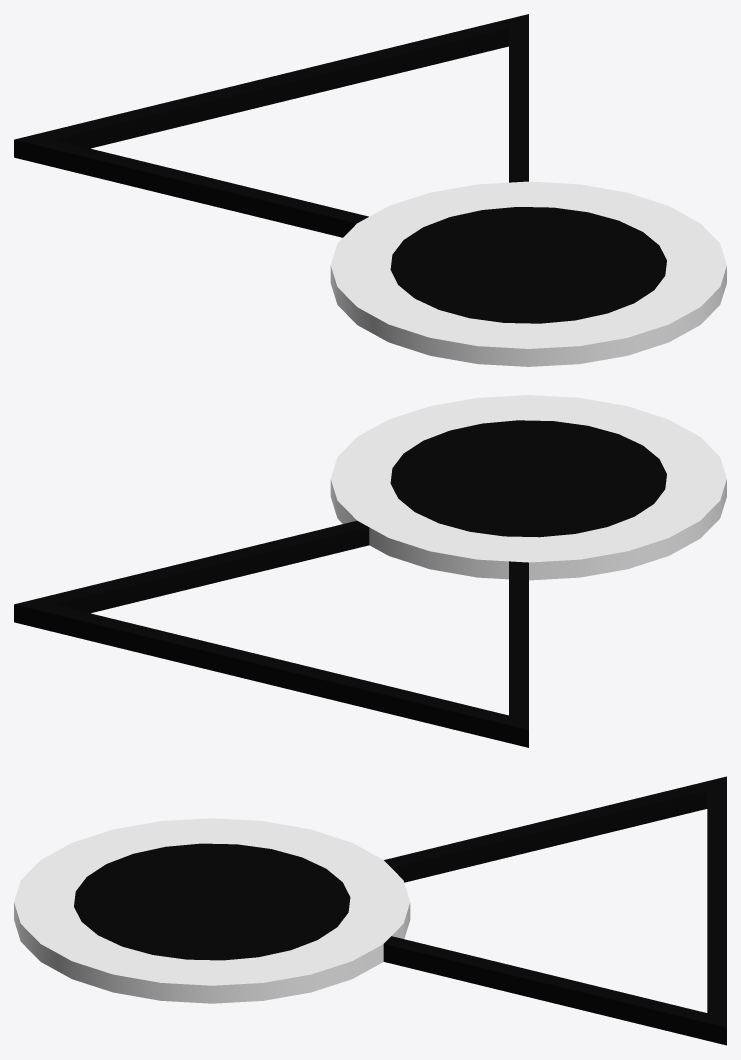
File: foto_symbol.dae
3 renders of one model, top to bottom at view 1: azimuth 30°, elevation 25°; view 2: azimuth 150°, elevation 25°; view 3: azimuth 270°, elevation 25°, orthographic.
Parts seen in each view (by area): view 1: SketchUp (×3); view 2: SketchUp (×4); view 3: SketchUp (×3).
Part boxes in pixels (x1,y1,x2,y2): SketchUp (×3): (14,14,726,366); SketchUp (×4): (14,395,726,747); SketchUp (×3): (14,776,726,1045).
Size of the model in its own units: 591 by 708 by 19.69.
3 materials, 1 textured.
